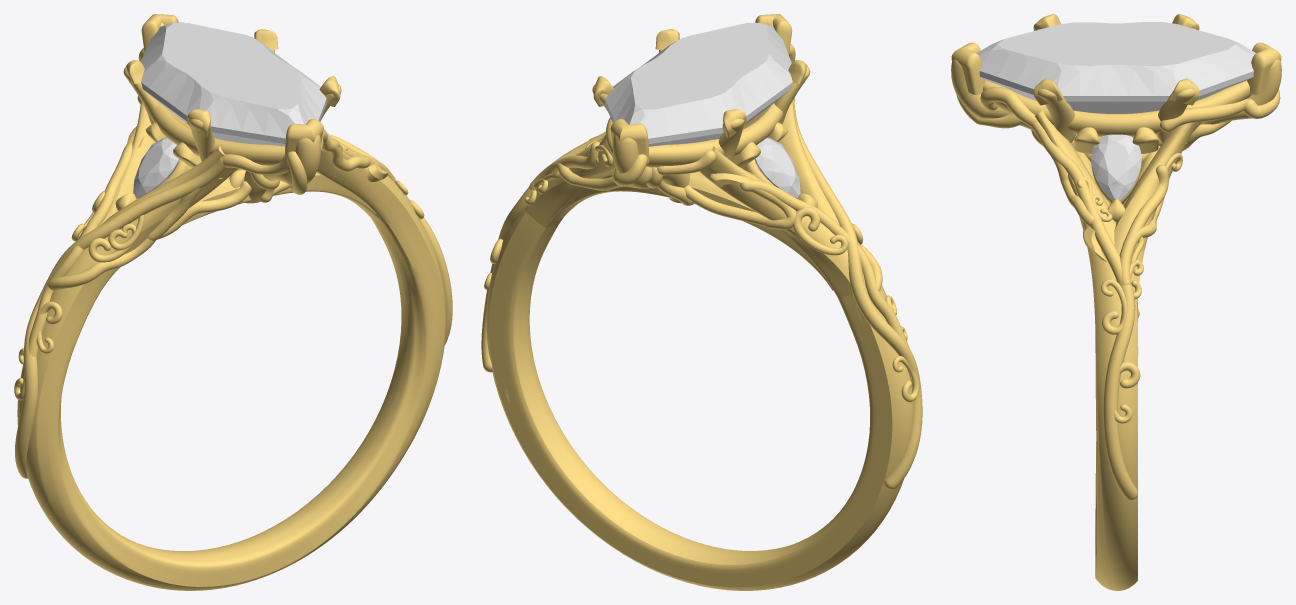
Rendered from AylaV5YGeng_blender.glb.
3 renders of one model, left to right at view 1: azimuth 30°, elevation 25°; view 2: azimuth 150°, elevation 25°; view 3: azimuth 270°, elevation 25°, orthographic.
Parts seen in each view (by area): view 1: V5 Ayla YG for 3d model, V5 Ayla dia center for 3d model, V5 Ayla side dia for 3d model.001; view 2: V5 Ayla YG for 3d model, V5 Ayla dia center for 3d model, V5 Ayla side dia for 3d model.001; view 3: V5 Ayla YG for 3d model, V5 Ayla dia center for 3d model, V5 Ayla side dia for 3d model.
Boxes of the visible parts, x1,y1,x2,y2 form: V5 Ayla YG for 3d model: [14, 14, 452, 590]; V5 Ayla dia center for 3d model: [141, 22, 326, 146]; V5 Ayla side dia for 3d model.001: [133, 137, 179, 198]; V5 Ayla YG for 3d model: [481, 14, 922, 590]; V5 Ayla dia center for 3d model: [604, 22, 792, 146]; V5 Ayla side dia for 3d model.001: [754, 137, 800, 198]; V5 Ayla YG for 3d model: [951, 14, 1281, 590]; V5 Ayla dia center for 3d model: [977, 21, 1256, 113]; V5 Ayla side dia for 3d model: [1091, 134, 1141, 200].
Size of the model in its own units: 20.28 by 23.05 by 13.19.
